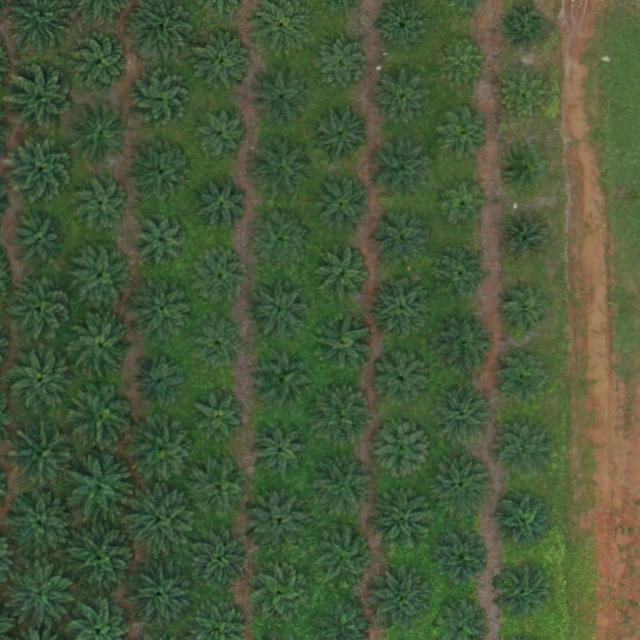Healthy: (6, 65, 77, 136), (7, 134, 78, 205), (126, 485, 197, 556), (7, 344, 77, 415), (7, 564, 77, 635), (128, 560, 198, 631), (11, 424, 81, 494), (7, 490, 77, 560), (65, 453, 135, 523), (69, 527, 139, 597), (309, 34, 372, 97), (309, 103, 372, 166), (250, 65, 313, 128), (252, 137, 315, 200), (249, 279, 312, 342), (70, 245, 133, 308), (70, 318, 133, 381), (10, 279, 73, 342), (132, 420, 195, 483), (252, 348, 315, 411), (435, 384, 498, 447), (369, 139, 431, 202), (370, 277, 433, 339), (312, 312, 374, 375), (132, 141, 195, 203), (134, 278, 196, 341), (70, 103, 132, 166), (187, 457, 250, 519), (312, 381, 374, 444), (315, 457, 377, 520), (372, 419, 434, 482), (371, 488, 433, 551), (372, 571, 434, 634), (431, 454, 493, 517), (493, 491, 555, 554), (433, 315, 495, 377), (193, 30, 255, 92), (130, 69, 192, 131), (70, 32, 132, 94), (71, 383, 133, 445), (249, 487, 311, 549), (317, 525, 379, 587), (436, 248, 491, 303), (375, 72, 430, 127), (374, 213, 429, 268), (254, 218, 309, 273), (195, 111, 250, 166), (75, 178, 130, 233), (13, 213, 68, 268), (254, 425, 309, 480), (253, 564, 308, 619), (376, 354, 431, 409), (434, 531, 489, 586), (498, 566, 553, 621), (315, 180, 369, 235), (317, 249, 371, 304), (137, 213, 191, 268), (195, 532, 249, 587), (497, 350, 551, 405), (497, 422, 551, 477), (201, 183, 248, 231), (139, 359, 186, 407), (197, 392, 244, 440), (438, 39, 485, 86), (199, 253, 246, 300), (194, 325, 241, 372)
Small: (499, 213, 554, 268), (497, 287, 552, 342), (435, 105, 489, 160), (442, 184, 489, 231), (499, 72, 546, 119), (504, 4, 551, 51), (502, 148, 542, 188)
